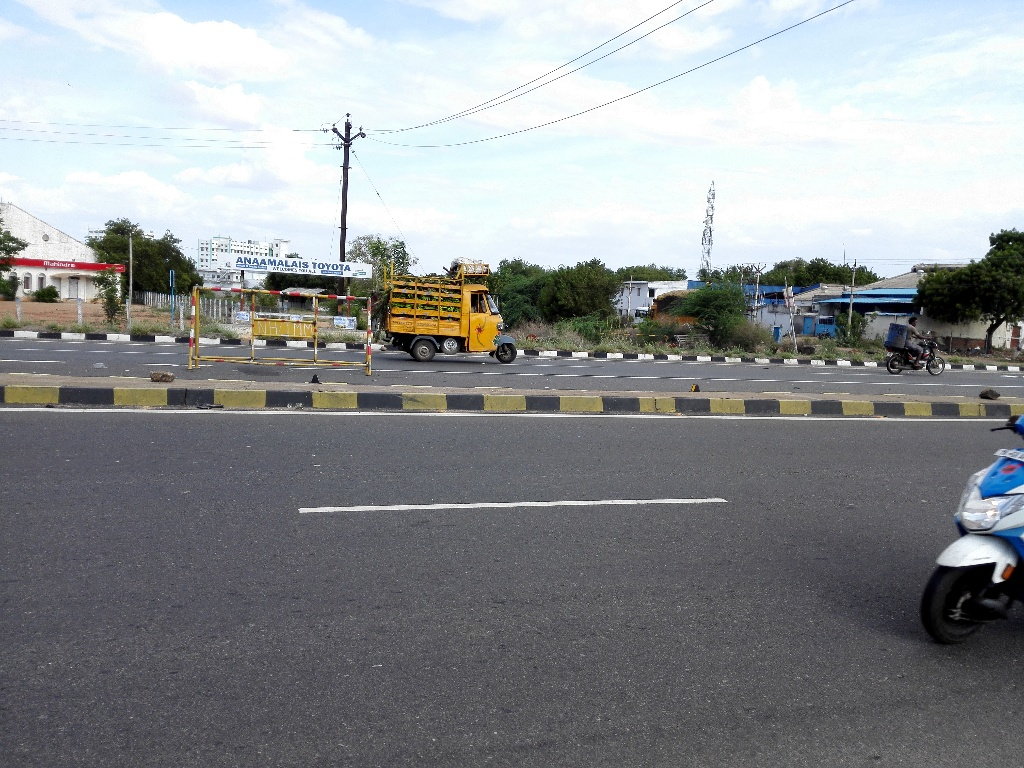biker: (875, 295, 955, 383)
nohelmet: (904, 310, 923, 332)
